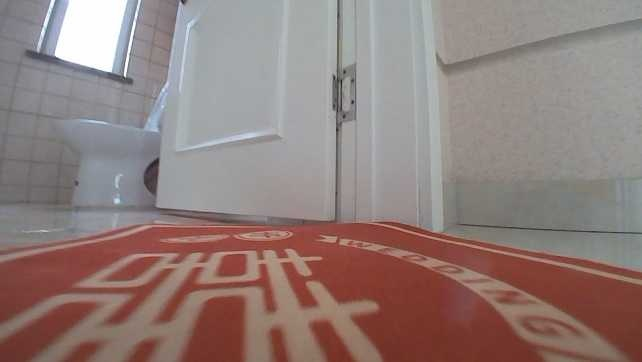blanket: (0, 220, 641, 361)
door_anno: (154, 0, 444, 232)
toilet: (55, 79, 166, 207)
